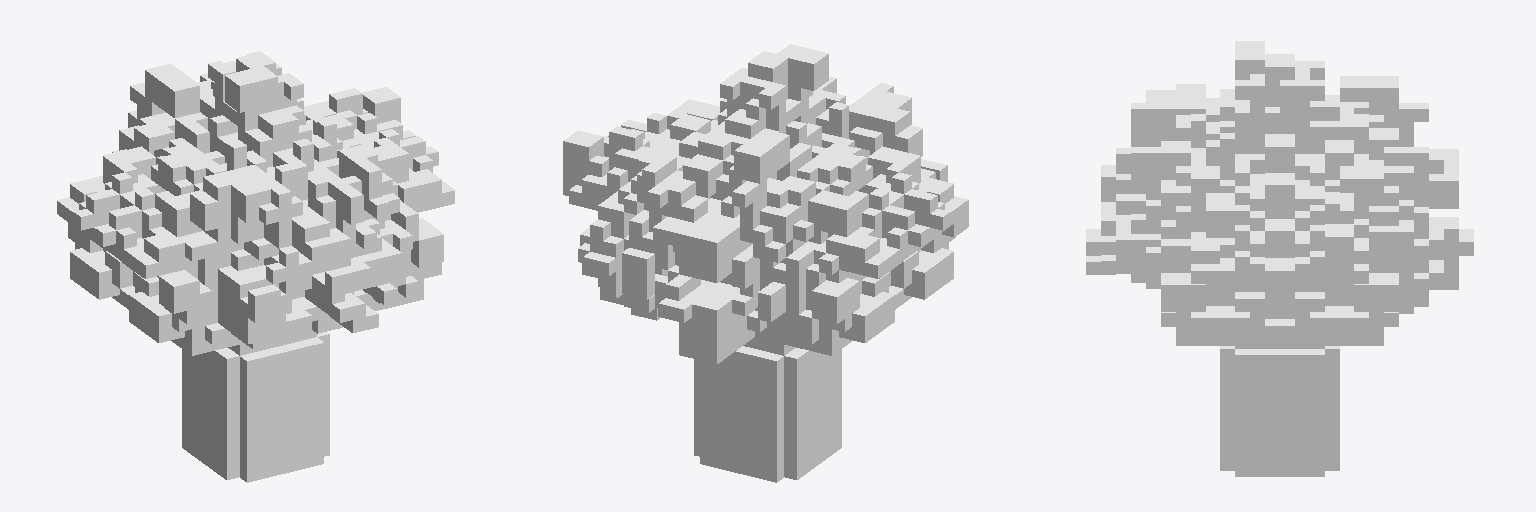
Rendered from 002_obstacle_01.obj.
3 renders of one model, left to right at view 1: azimuth 30°, elevation 25°; view 2: azimuth 150°, elevation 25°; view 3: azimuth 270°, elevation 25°, orthographic.
Visible parts, largest first — view 1: 002_obstacle_01; view 2: 002_obstacle_01; view 3: 002_obstacle_01.
Boxes of the visible parts, box(x1,y1,x2,y2) form: 002_obstacle_01: box(57, 51, 454, 482); 002_obstacle_01: box(563, 44, 968, 482); 002_obstacle_01: box(1086, 41, 1473, 476).
Bounding box in the file's own units: 26 × 29 × 26.